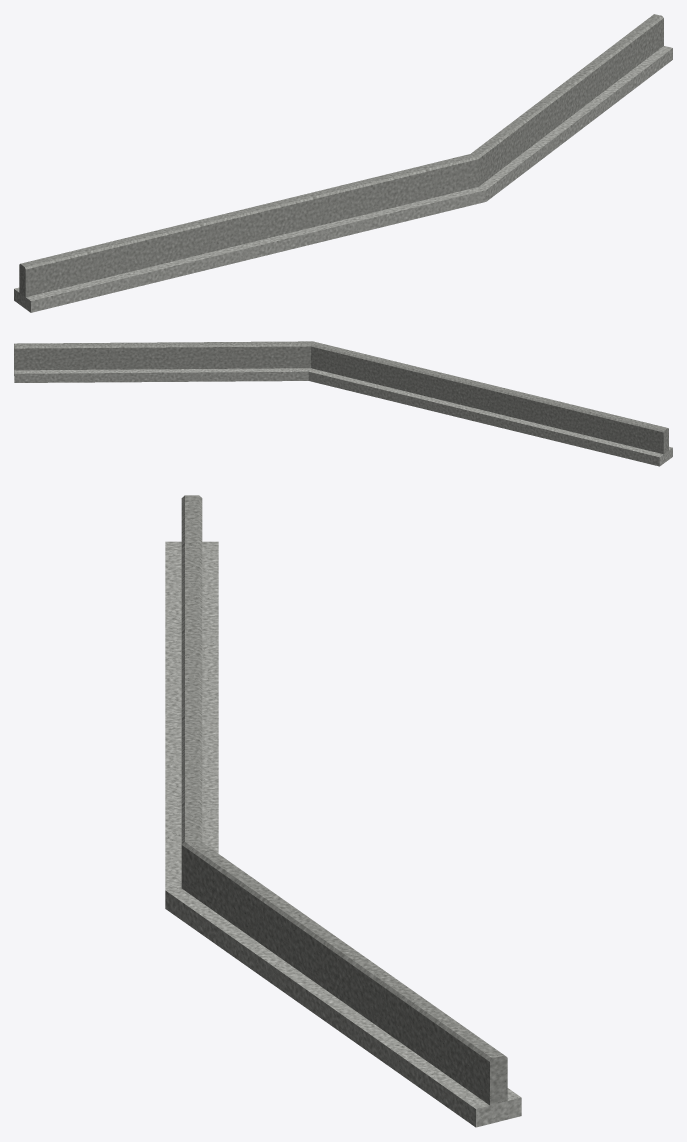
3 renders of one model, top to bottom at view 1: azimuth 30°, elevation 25°; view 2: azimuth 150°, elevation 25°; view 3: azimuth 270°, elevation 25°, orthographic. The views are drawn at different scales.
Visible parts, largest first — view 1: edge.flush_kerb (×2); view 2: edge.flush_kerb (×2); view 3: edge.flush_kerb (×2).
Part boxes in pixels (<box>): edge.flush_kerb (×2): <box>14,14,672,312</box>; edge.flush_kerb (×2): <box>14,341,672,466</box>; edge.flush_kerb (×2): <box>165,495,521,1127</box>.
Bounding box in the file's own units: 6.57 × 1.74 × 0.35.
Materials: 2 (2 with a texture image).
